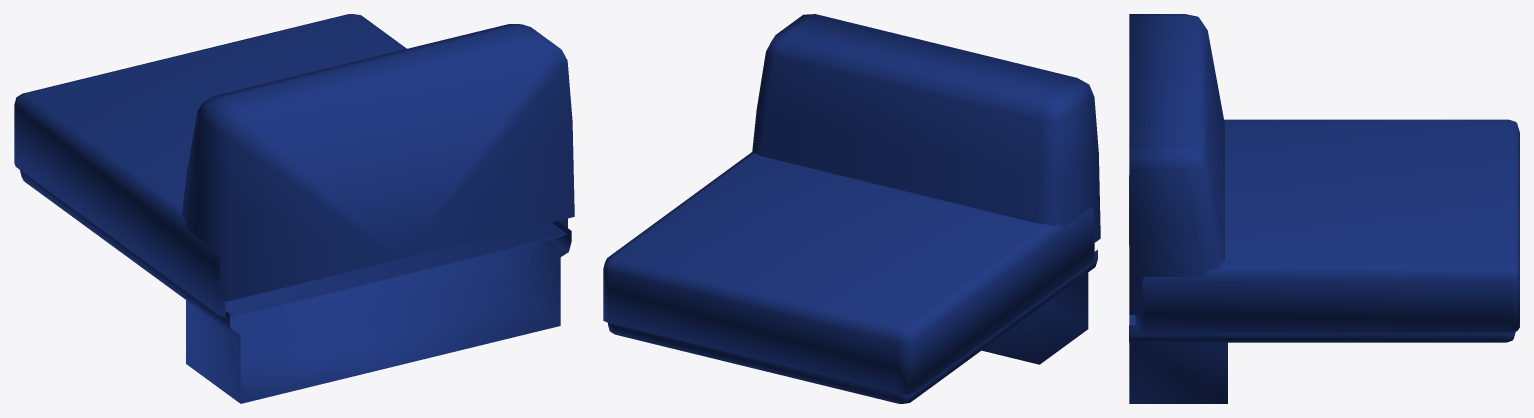
File: ML_sofa_Sit.fbx
The picture shows the model from 3 angles, left to right: view 1: azimuth 30°, elevation 25°; view 2: azimuth 150°, elevation 25°; view 3: azimuth 270°, elevation 25°; orthographic projection. The views are drawn at different scales.
Parts seen in each view (by area): view 1: Object011; view 2: Object011; view 3: Object011.
Part boxes in pixels (left/top/right/bottom): Object011: left=14, top=14, right=574, bottom=403; Object011: left=603, top=14, right=1100, bottom=403; Object011: left=1129, top=14, right=1519, bottom=403.
Bounding box in the file's own units: 116 × 88.83 × 125.
